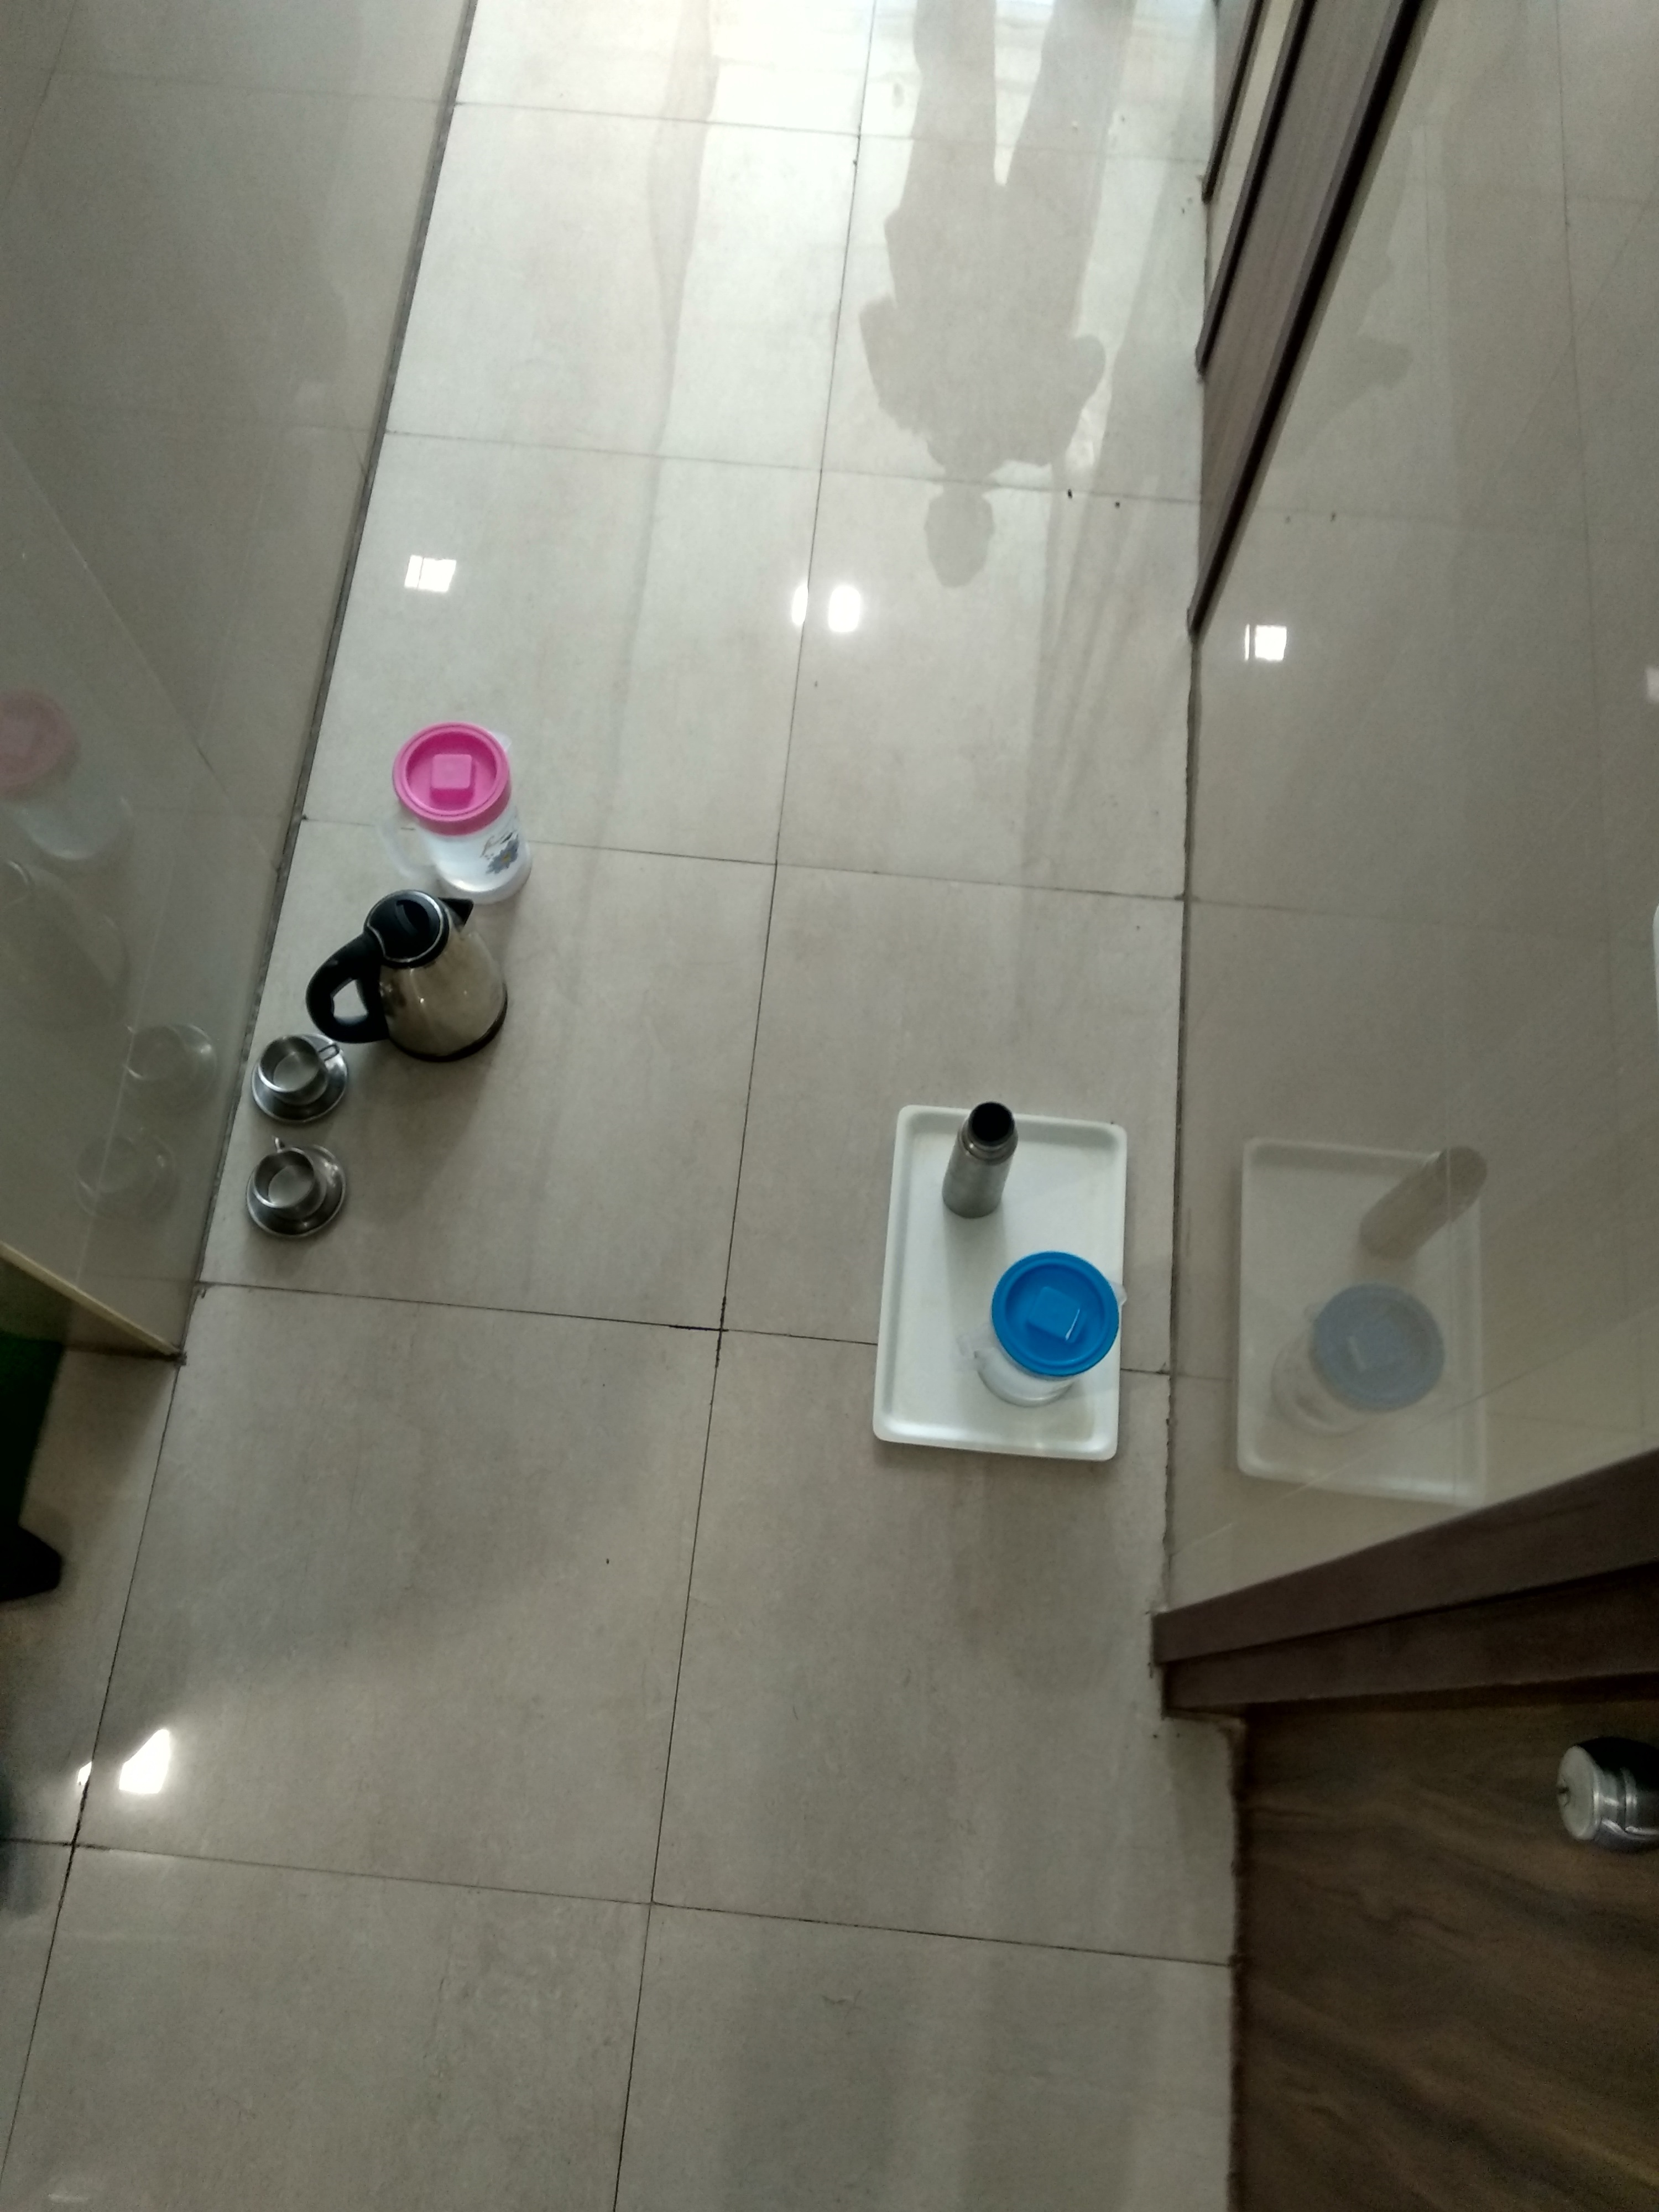CUP: (247, 1129, 354, 1247), (247, 1031, 356, 1123)
FLASK: (943, 1089, 1021, 1231)
JUG: (305, 890, 518, 1068), (965, 1242, 1136, 1418), (378, 719, 538, 892)
